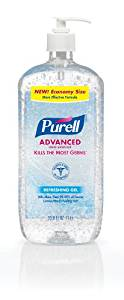Sanitizer: (7, 13, 110, 248)
